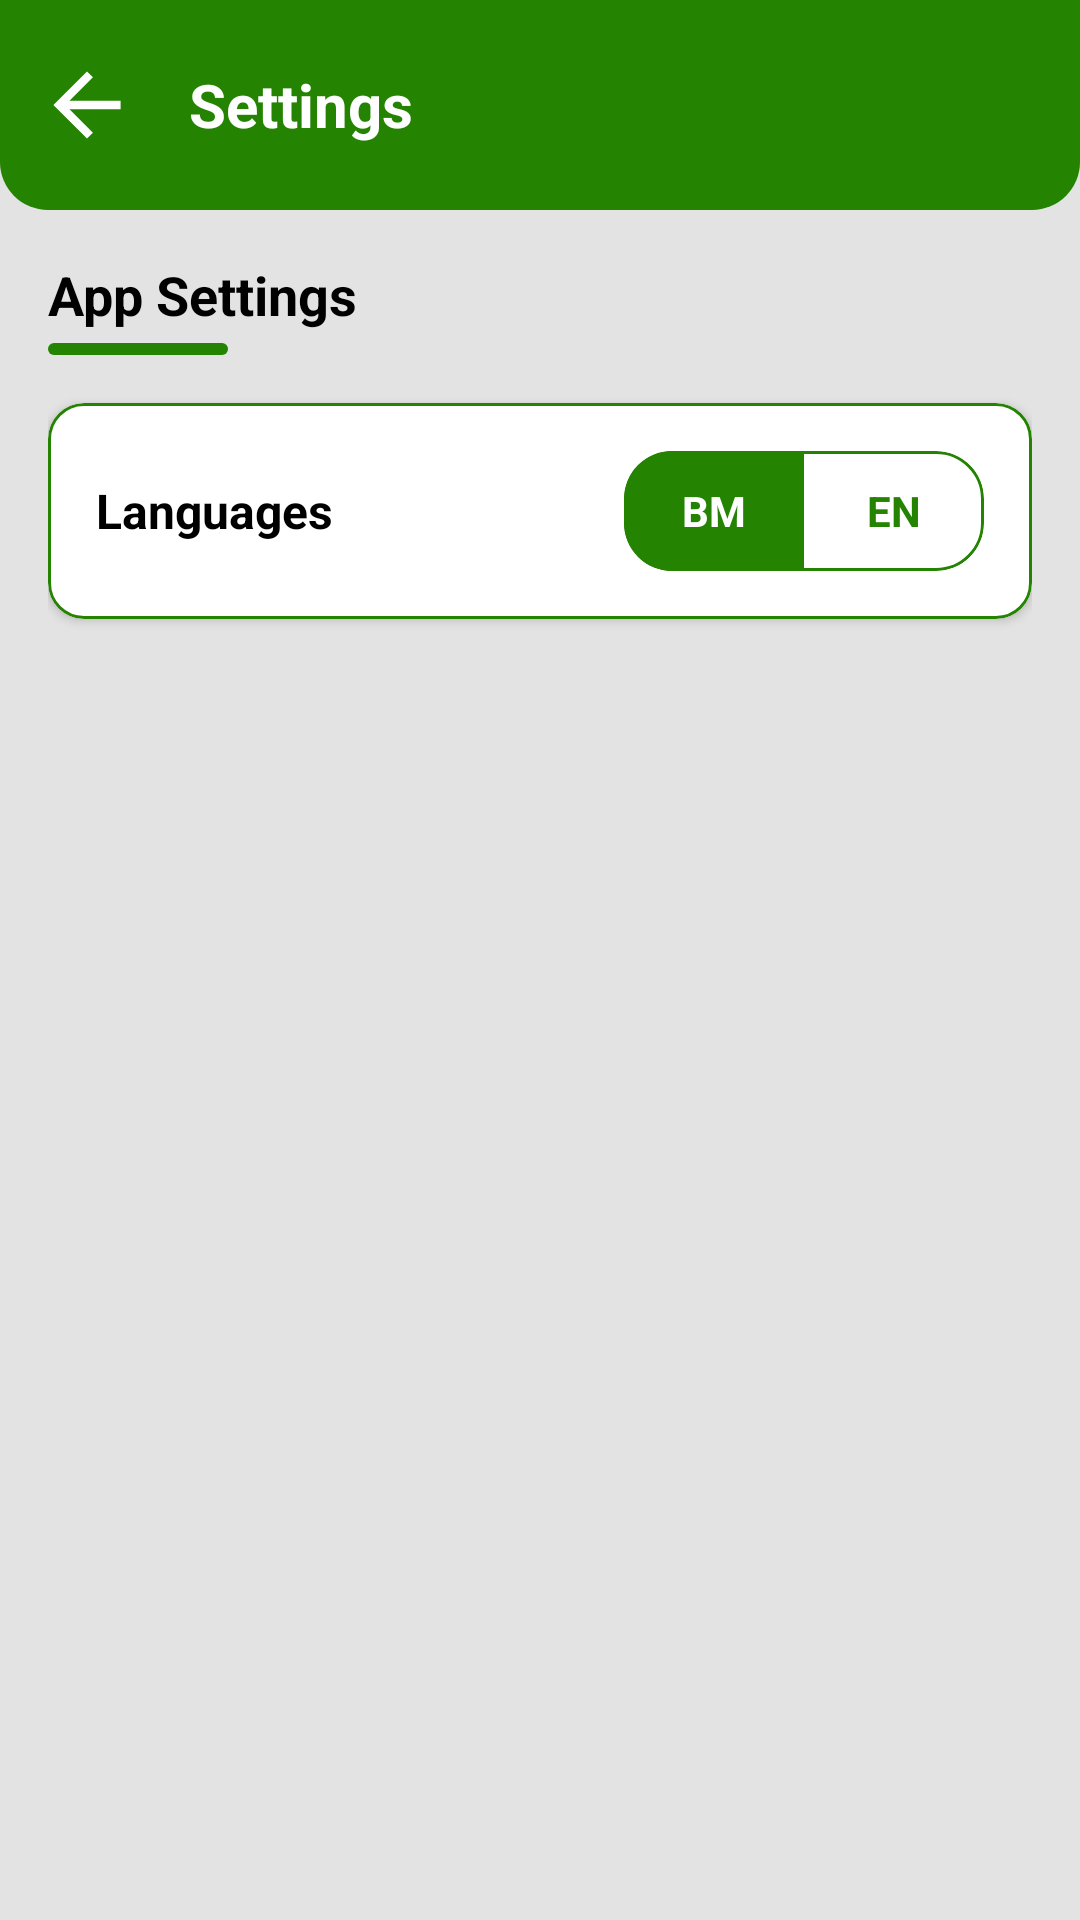

Named icons in this screenshot (1080×1920) and their centers, [x,y]:
Back: [87,105]
